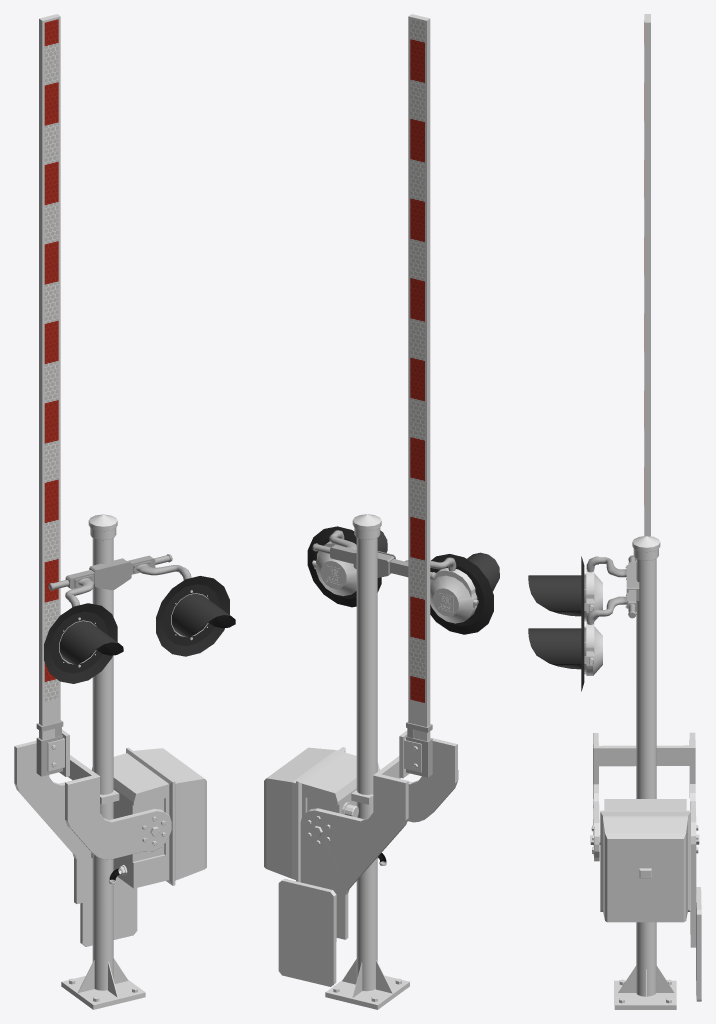
The model's file is rail-crossing-signal.glb.
The picture shows the model from 3 angles, left to right: view 1: azimuth 30°, elevation 25°; view 2: azimuth 150°, elevation 25°; view 3: azimuth 270°, elevation 25°; orthographic projection. The views are drawn at different scales.
Visible parts, largest first — view 1: Cube.039, Cube.040; view 2: Cube.040, Cube.039; view 3: Cube.039, Cube.040.
Boxes of the visible parts, x1=… form: Cube.039: x1=44, y1=514, x2=235, y2=1009; Cube.040: x1=14, y1=14, x2=171, y2=946; Cube.040: x1=278, y1=14, x2=458, y2=986; Cube.039: x1=264, y1=514, x2=499, y2=1009; Cube.039: x1=528, y1=536, x2=690, y2=1009; Cube.040: x1=590, y1=14, x2=701, y2=1001.
Bounding box in the file's own units: 1.52 × 7.71 × 1.27.
Materials: 17 (2 with a texture image).
